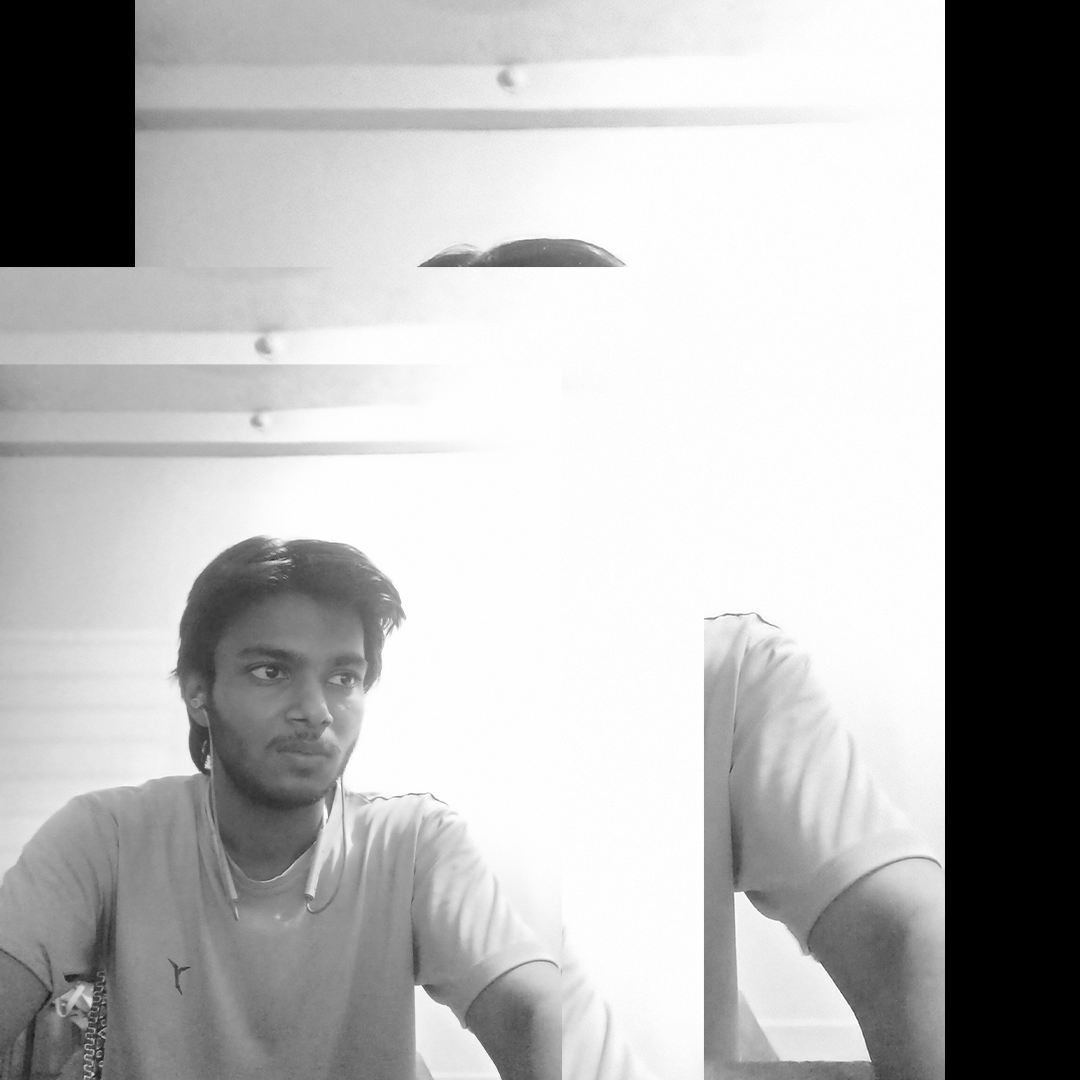Focused: (147, 455, 438, 842)
